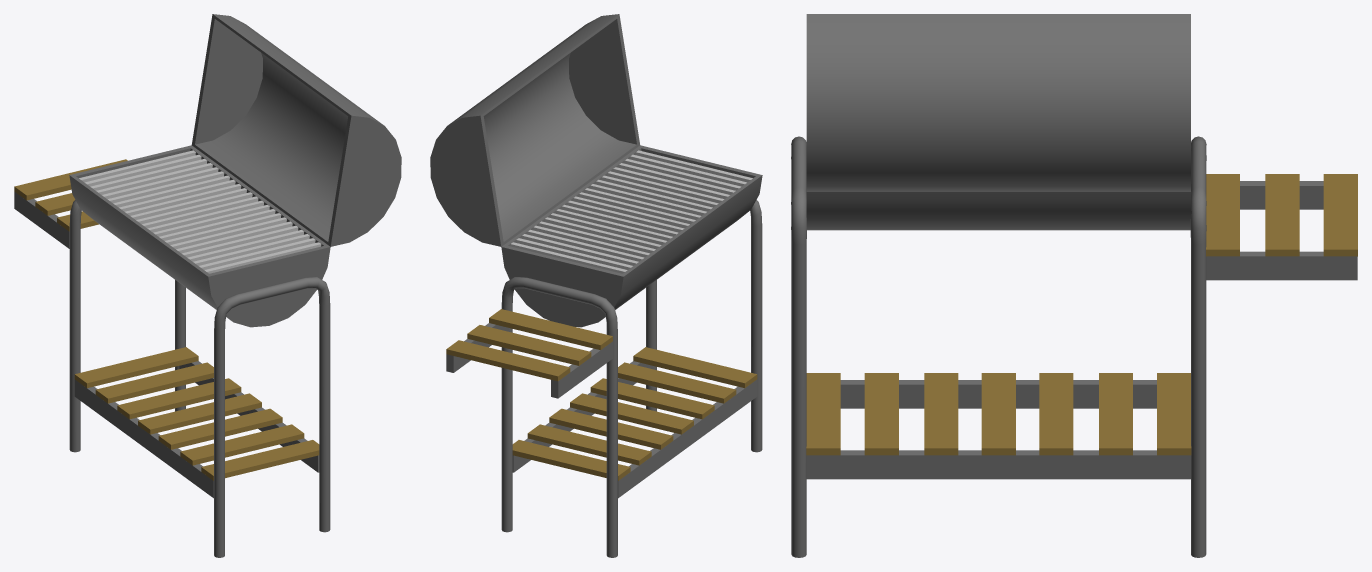
Rendered from Parrilla.fbx.
The picture shows the model from 3 angles, left to right: view 1: azimuth 30°, elevation 25°; view 2: azimuth 150°, elevation 25°; view 3: azimuth 270°, elevation 25°; orthographic projection. The views are drawn at different scales.
Visible parts, largest first — view 1: pCube30; view 2: pCube30; view 3: pCube30.
Boxes of the visible parts, x1,y1,x2,y2 form: pCube30: (14,14,401,557); pCube30: (430,14,762,557); pCube30: (791,14,1357,557).
Bounding box in the file's own units: 26.96 × 54 × 49.47.
